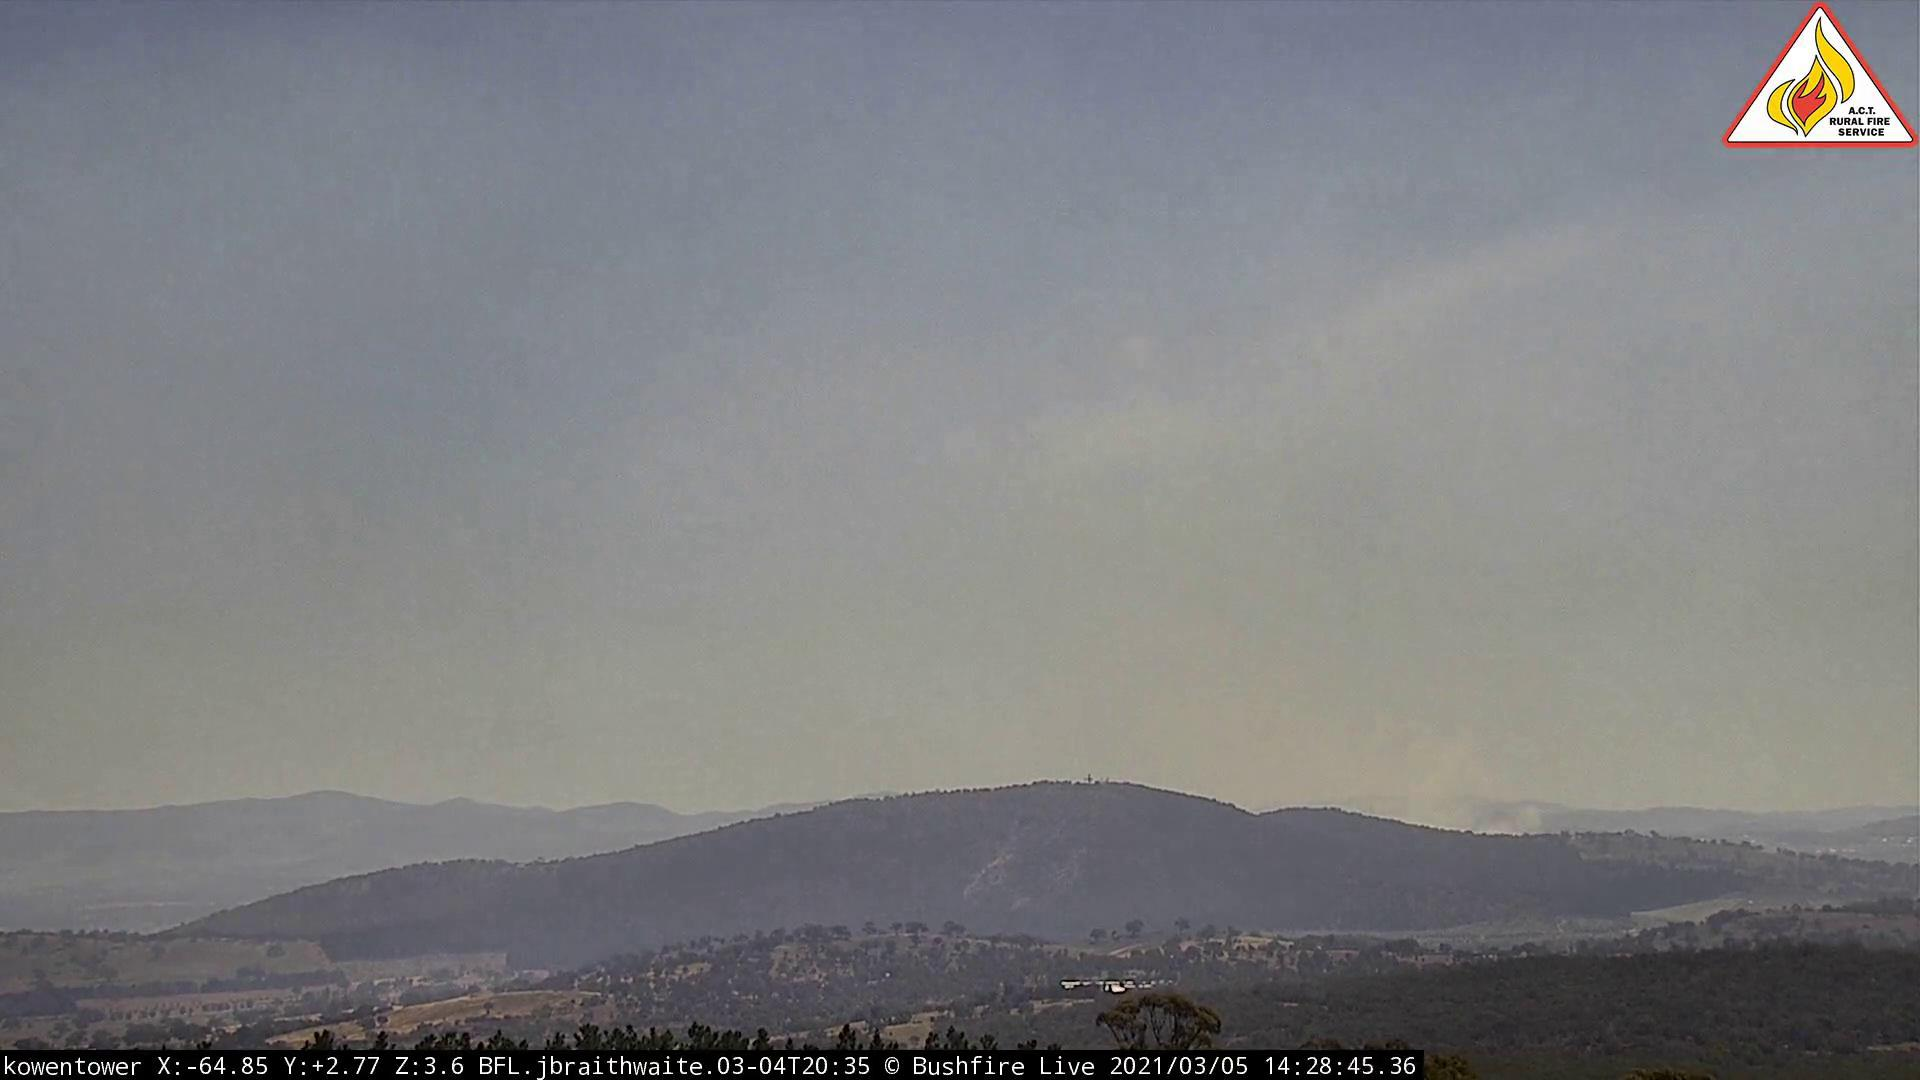Smoke: (1034, 493, 1556, 843)
